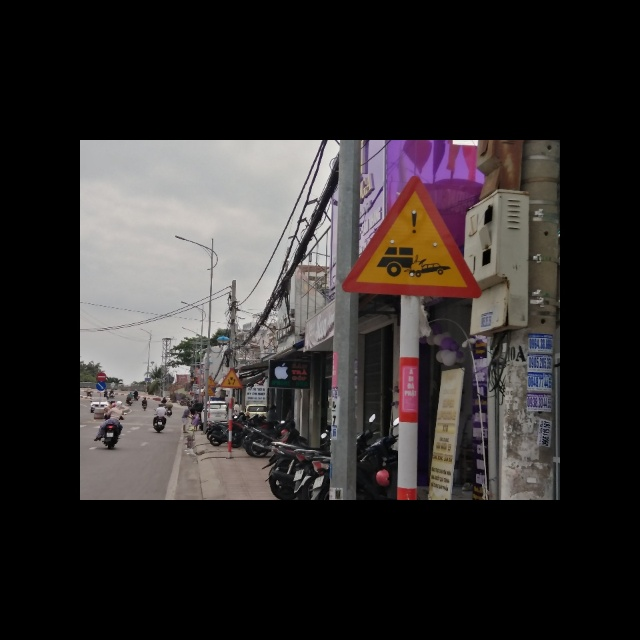Đoạn đường hay xảy ra tai nạn: (341, 175, 485, 297)
Đường đôi: (219, 367, 242, 388)
